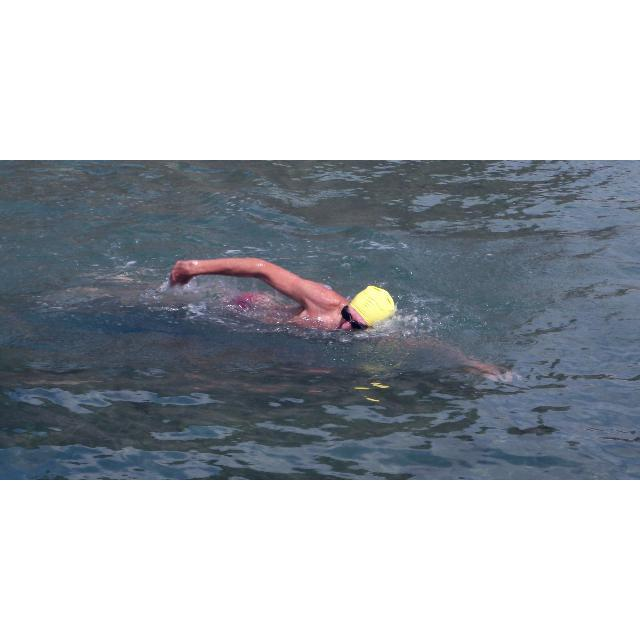human: (173, 255, 406, 338)
